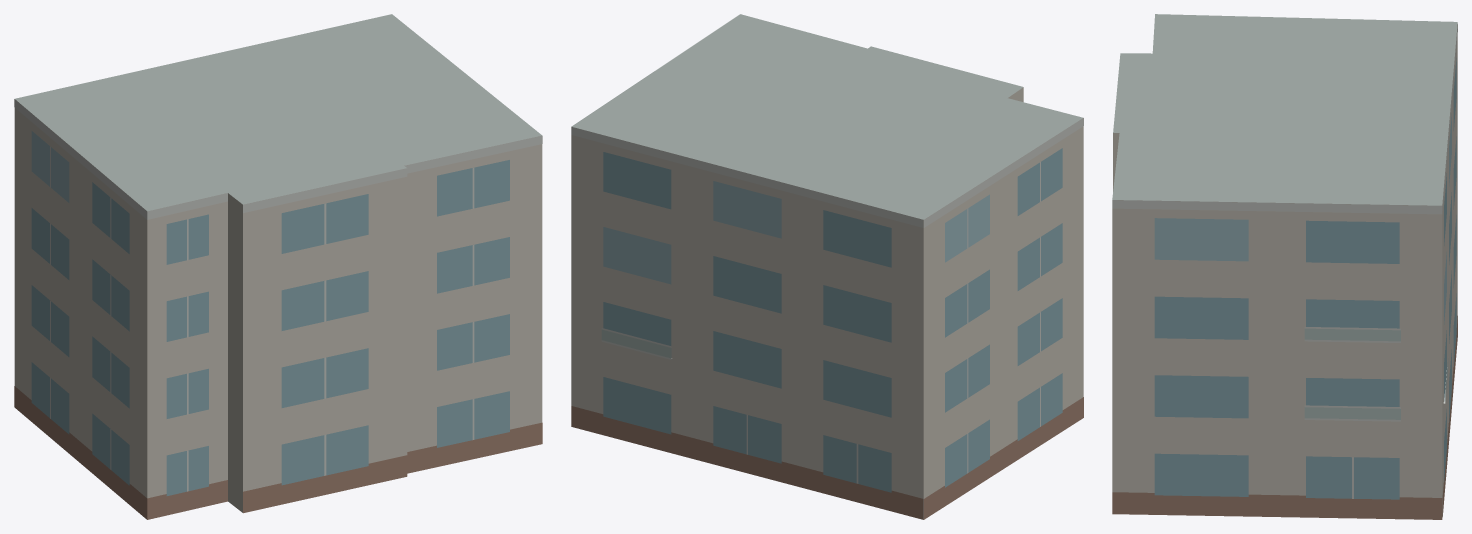
File: survey-upis-33011602.glb
3 renders of one model, left to right at view 1: azimuth 30°, elevation 25°; view 2: azimuth 150°, elevation 25°; view 3: azimuth 270°, elevation 25°, orthographic. The views are drawn at different scales.
Visible parts, largest first — view 1: survey-upis-33011602.tmp; view 2: survey-upis-33011602.tmp; view 3: survey-upis-33011602.tmp.
Boxes of the visible parts, box(x1,y1,x2,y2) form: survey-upis-33011602.tmp: box(14, 14, 542, 519); survey-upis-33011602.tmp: box(571, 14, 1083, 519); survey-upis-33011602.tmp: box(1112, 14, 1457, 519).
Bounding box in the file's own units: 11.53 × 8.8 × 8.78.
